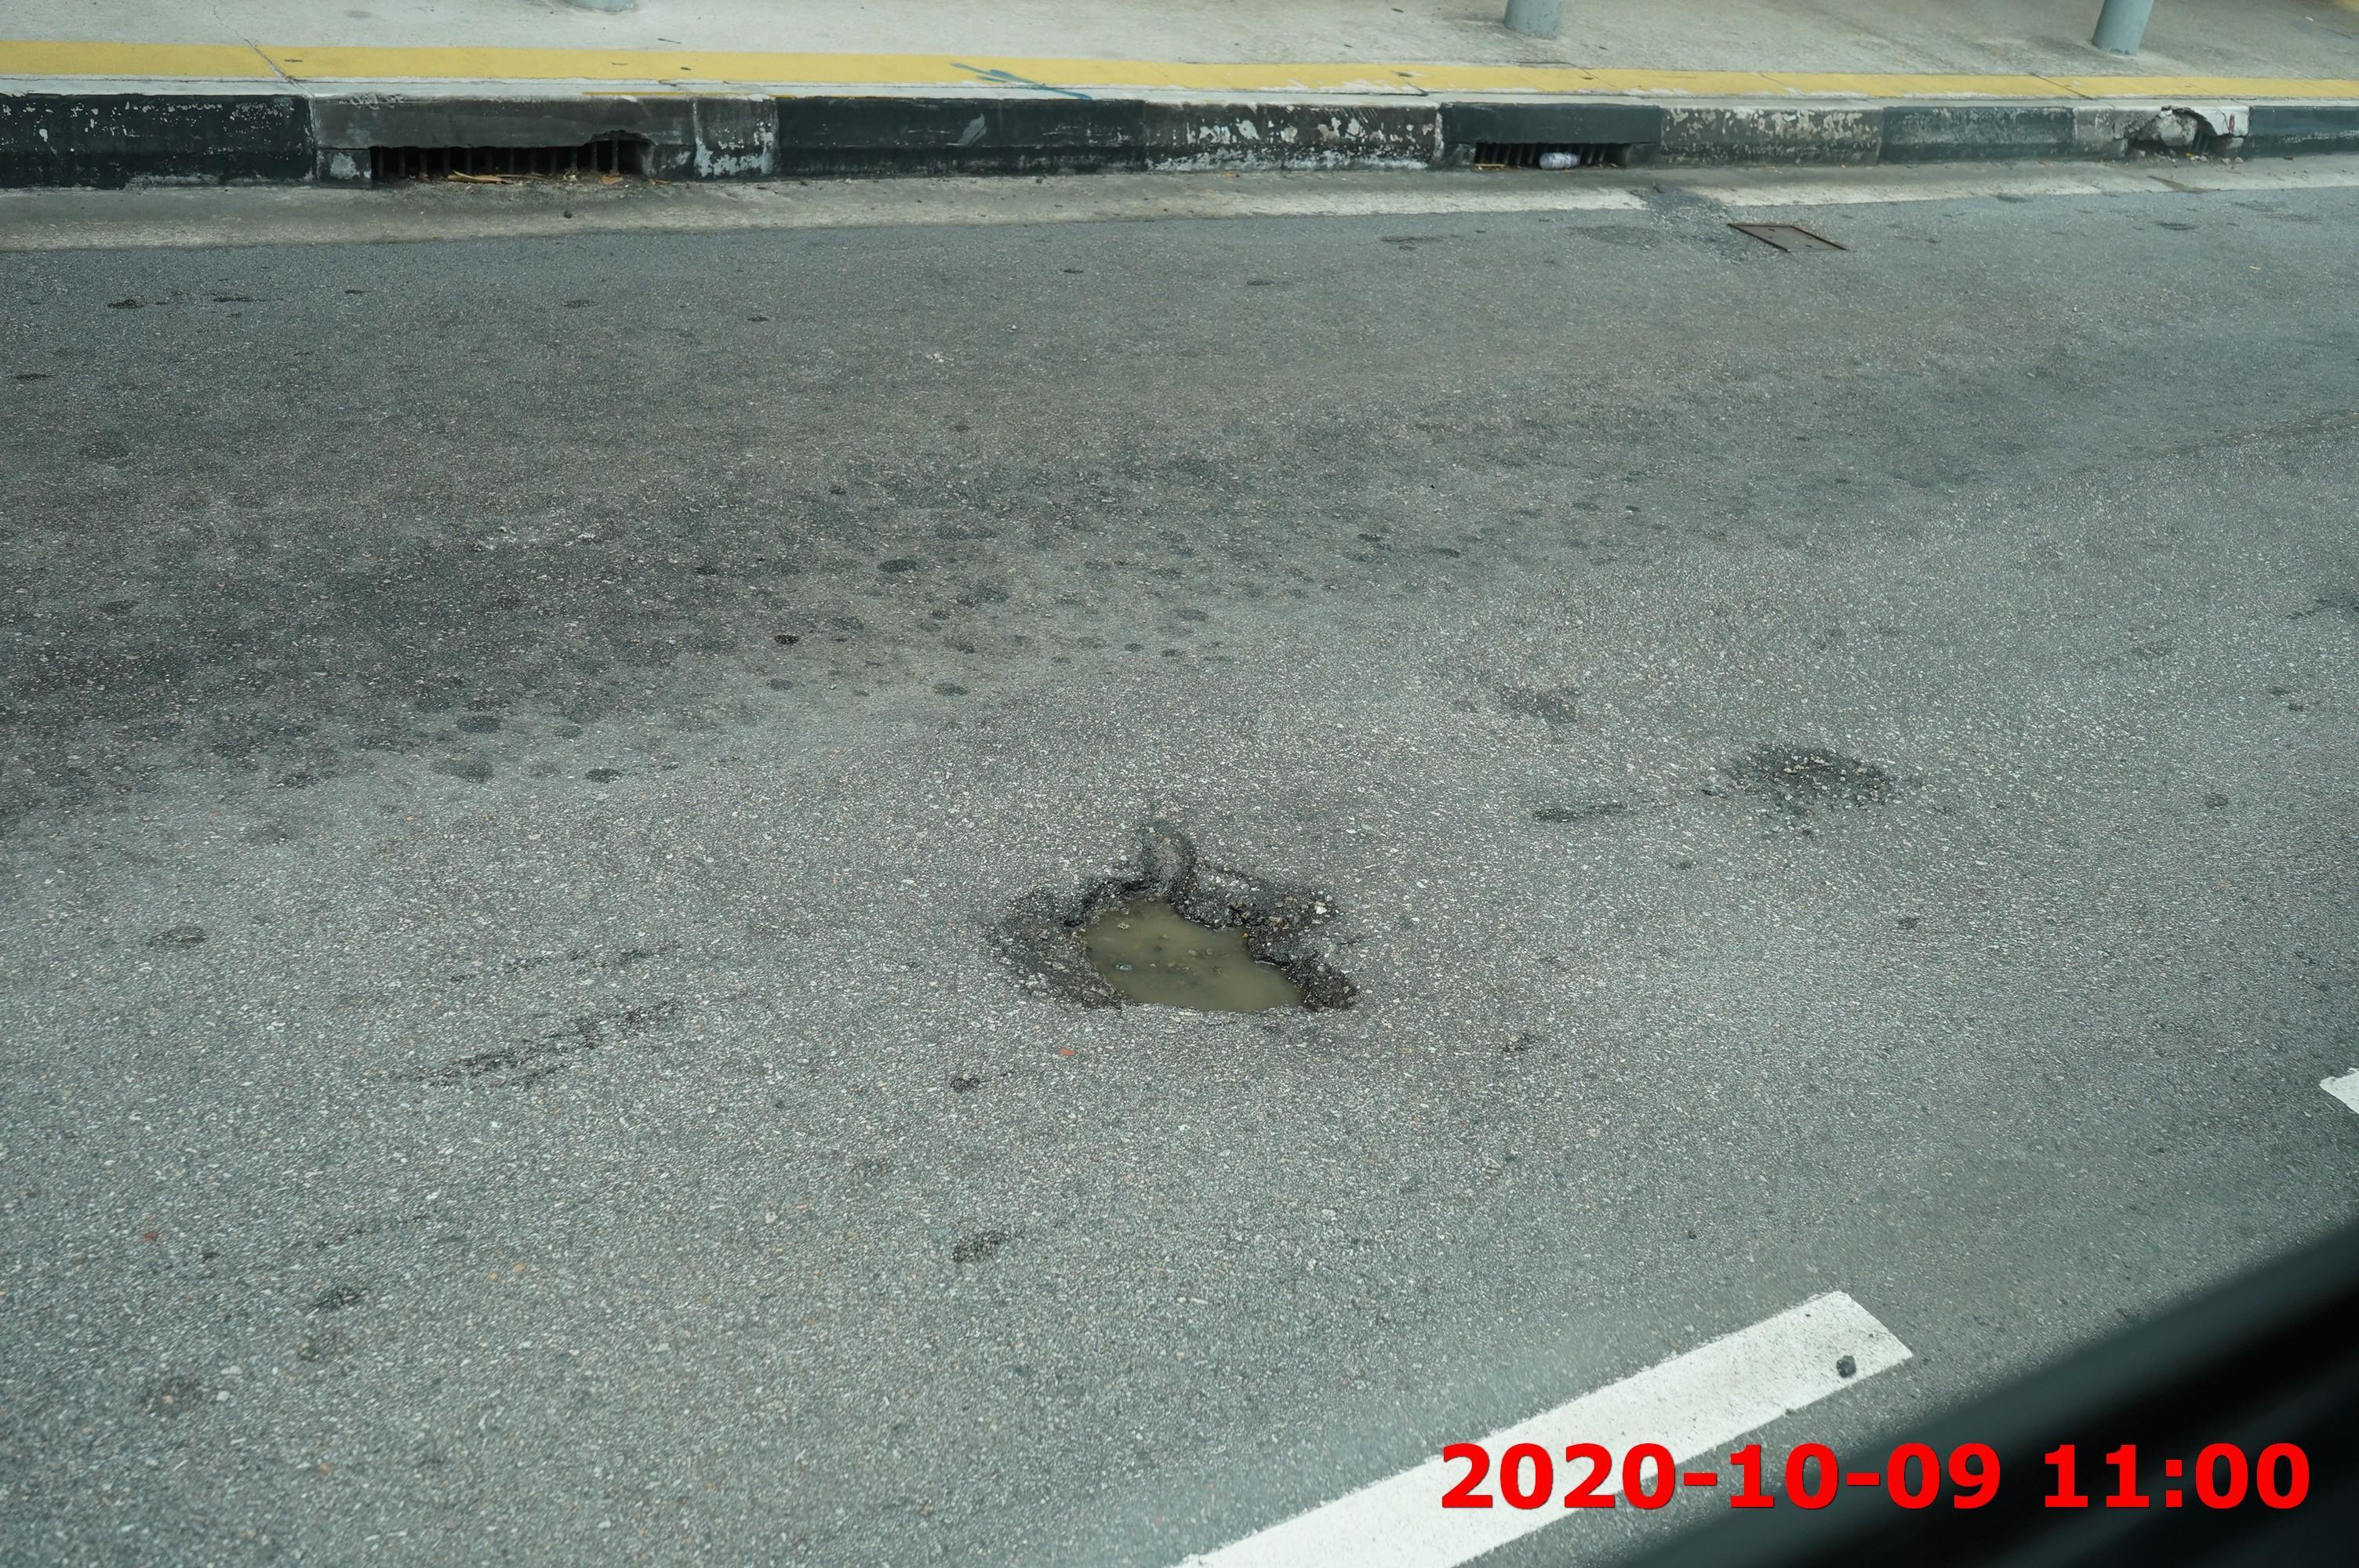peeling off premix: (1710, 726, 1906, 840), (84, 275, 199, 329)
pothole with crack: (991, 817, 1393, 1039)
